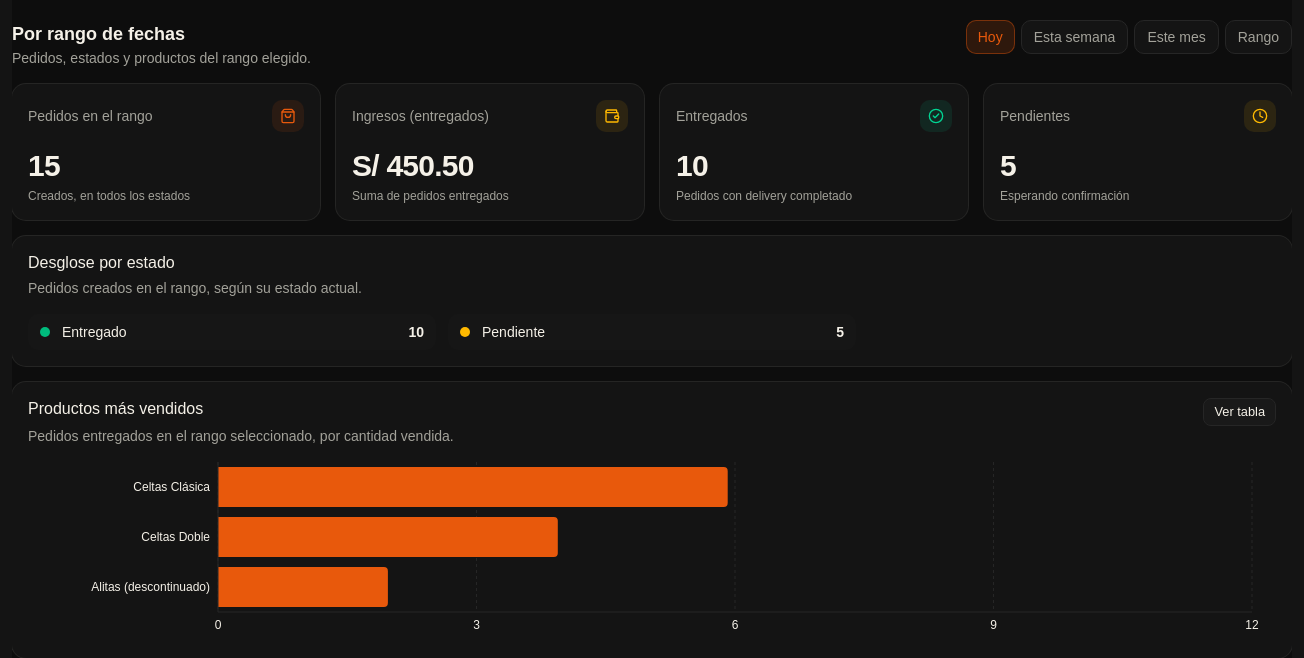
Test: DashboardPage — productos más vendidos › la tabla respeta el orden del backend (por cantidad) y muestra ingresos y % del top
(page scrolled)
Click the button "Ver tabla" at {"x": 1240, "y": 412}, box left=1204, top=398, right=1276, bottom=426
(page scrolled)
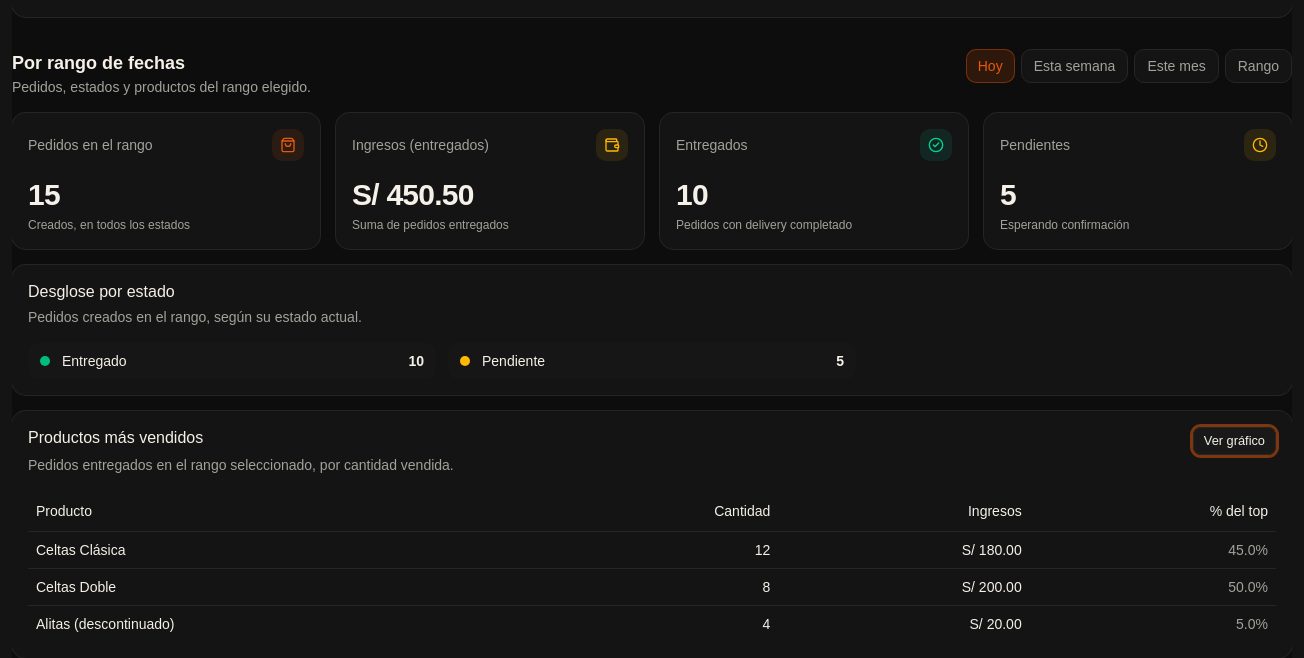
Now the row "Celtas Clásica 12 S/ 180.00 45.0%" is shown, box left=28, top=531, right=1276, bottom=568
Now the row "Celtas Doble 8 S/ 200.00 50.0%" is shown, box left=28, top=568, right=1276, bottom=605
Now the row "Alitas (descontinuado) 4 S/ 20.00 5.0%" is shown, box left=28, top=605, right=1276, bottom=642
